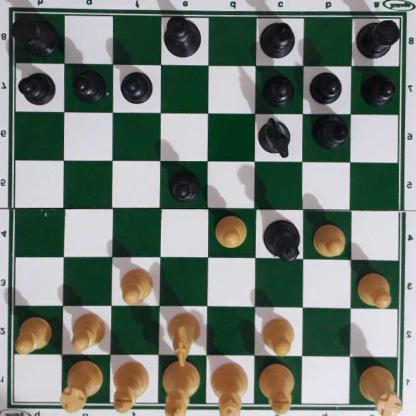black-bishop: (259, 19, 297, 56), (312, 115, 351, 149)
black-king: (164, 15, 202, 58)
black-knight: (260, 116, 293, 155)
black-pawn: (20, 69, 56, 105), (167, 166, 203, 201), (121, 68, 154, 103), (311, 69, 343, 104), (362, 72, 396, 104), (73, 68, 105, 101), (264, 70, 294, 105)
black-queen: (262, 218, 301, 263)
black-rook: (357, 16, 404, 58), (15, 11, 58, 55)
white-bishop: (112, 361, 151, 414), (261, 360, 295, 413)
white-king: (163, 358, 201, 416)
white-knight: (168, 310, 203, 365)
white-pawn: (69, 310, 107, 350), (16, 314, 53, 351), (262, 315, 296, 355), (312, 221, 349, 257), (358, 271, 395, 307), (121, 265, 155, 303), (215, 214, 249, 248)
white-queen: (211, 361, 250, 416)
white-rook: (59, 357, 105, 414), (361, 361, 401, 416)
